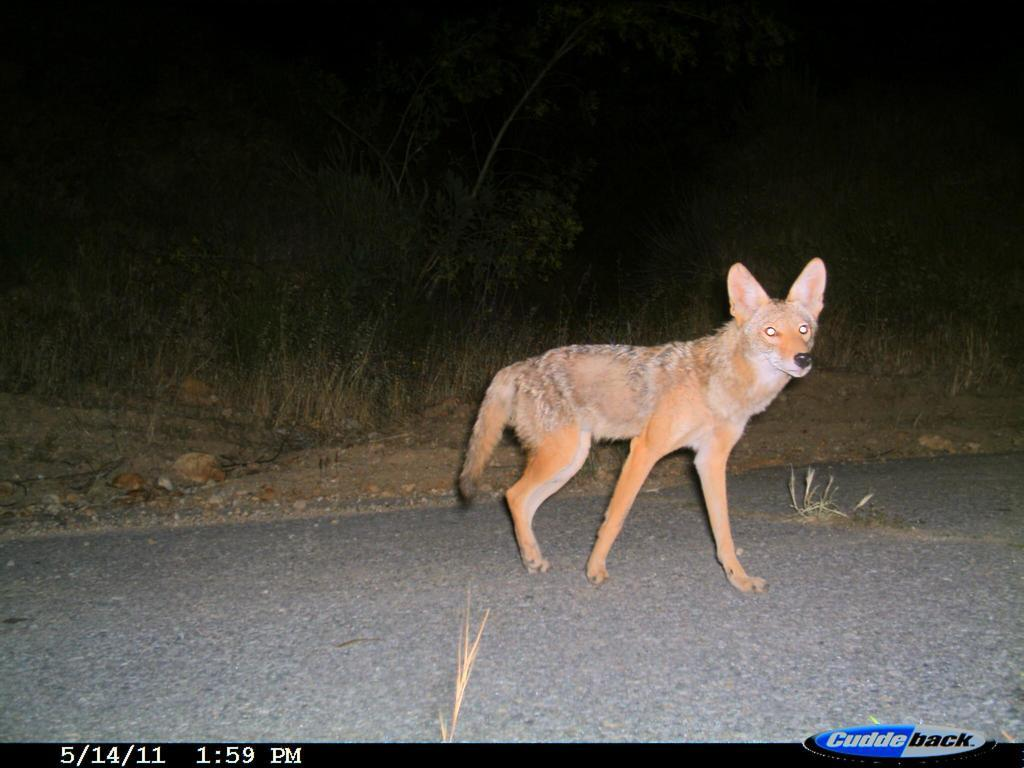coyote: (449, 248, 838, 606)
